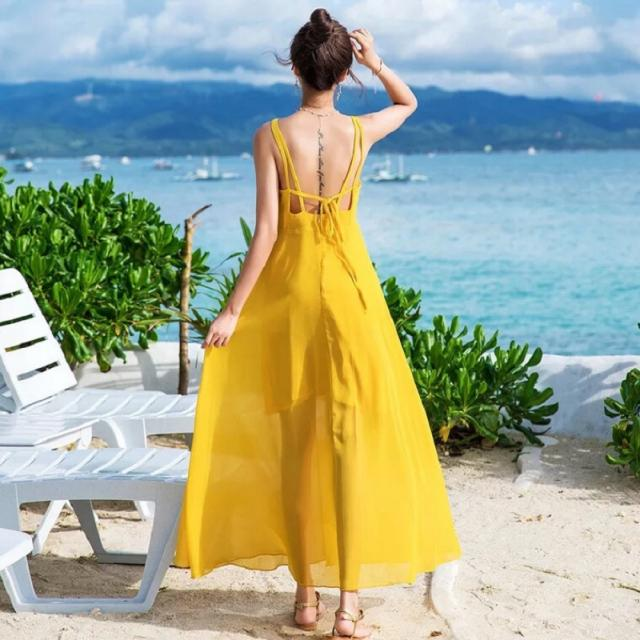clothes: (208, 110, 460, 589)
